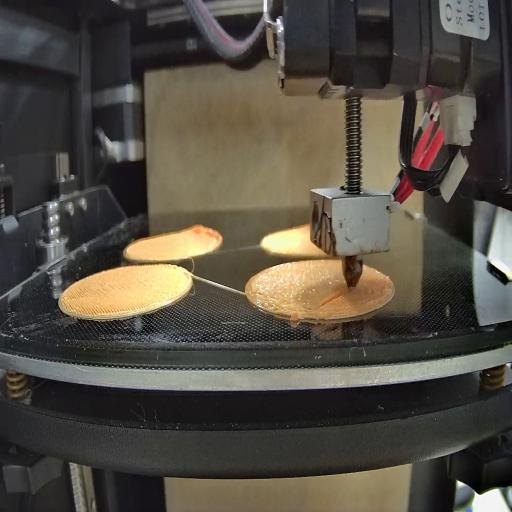over_extrusion: (187, 218, 226, 250), (318, 285, 348, 312)
